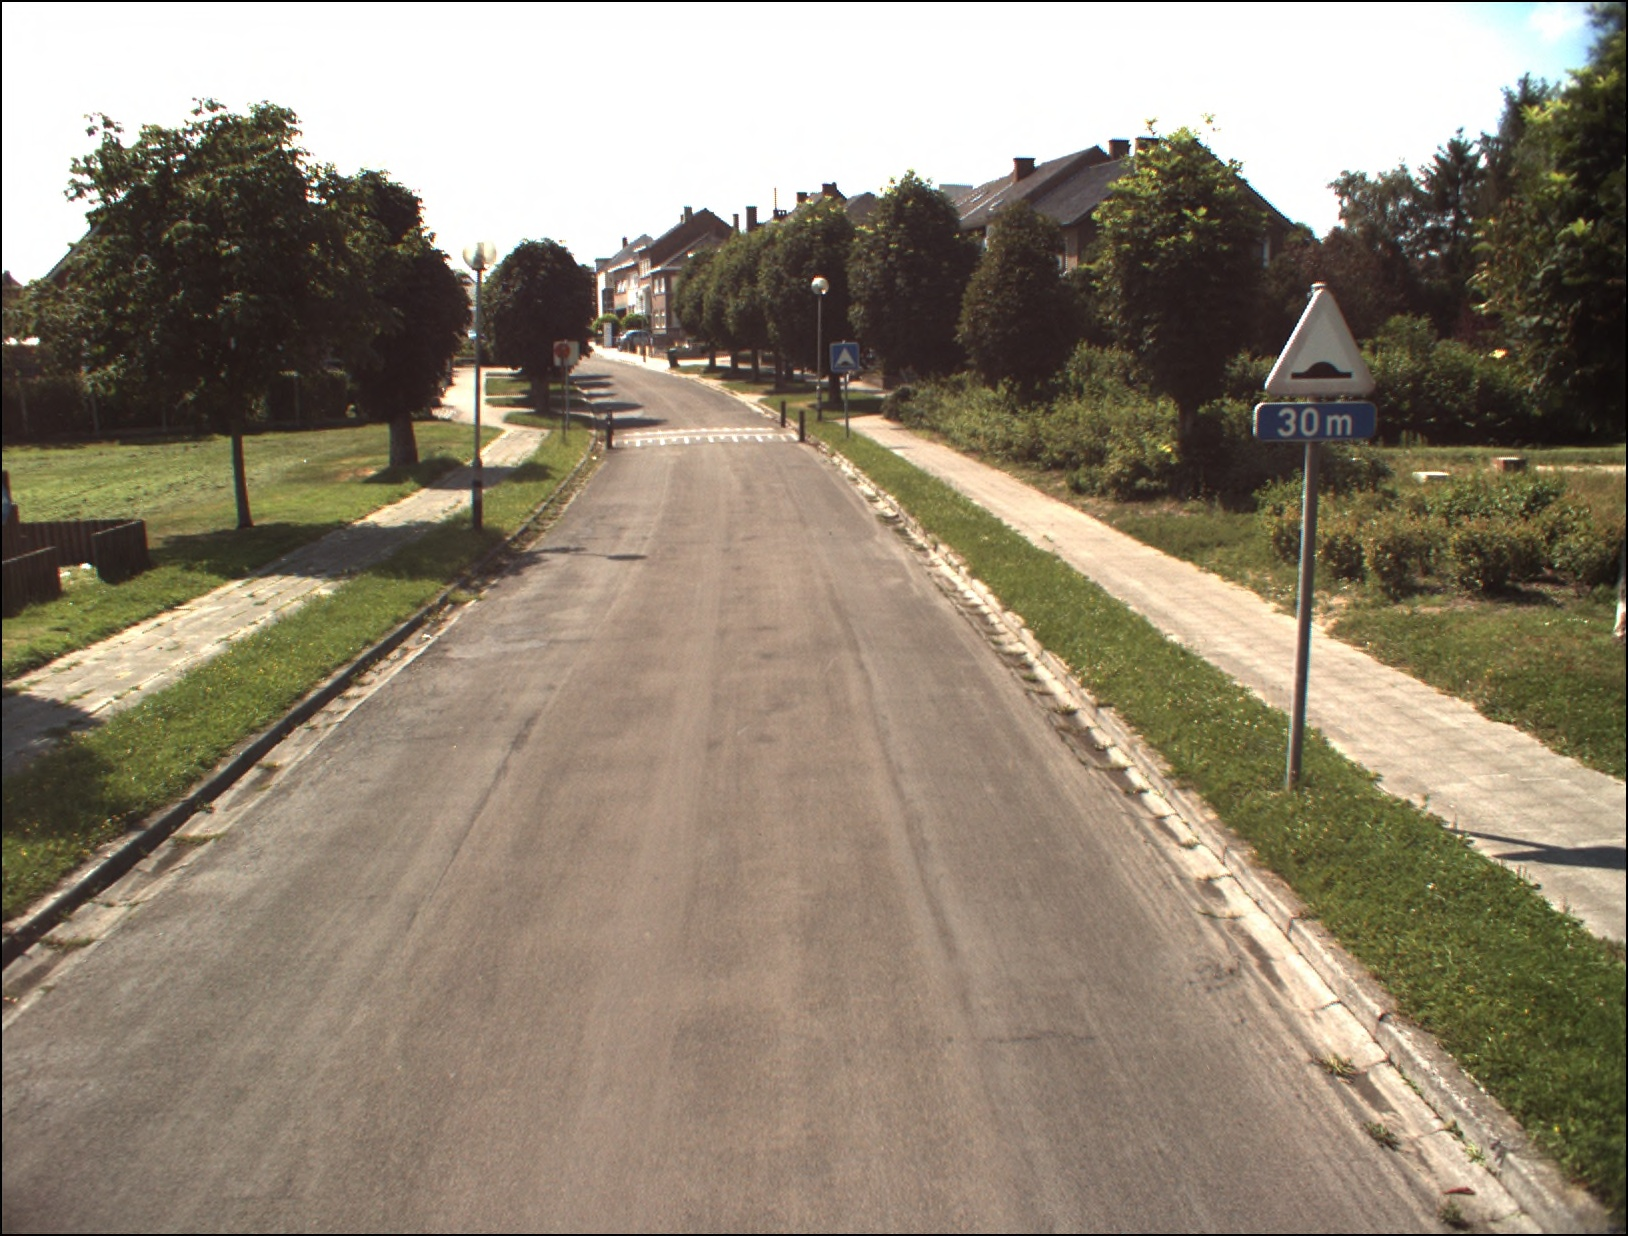speedbump: (1258, 284, 1383, 399)
